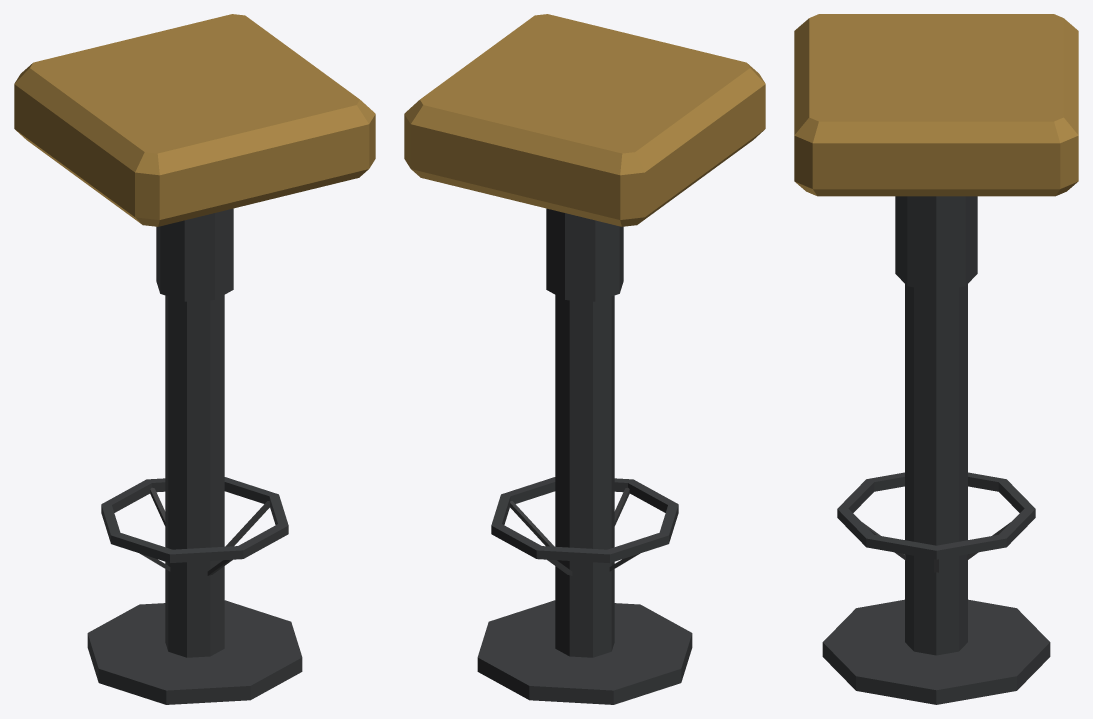
The model's file is SM_Props_Interior_Shop_Restaurant_Chair_Tall_01.fbx.
3 views of the same model, side by side, from view 1: azimuth 30°, elevation 25°; view 2: azimuth 150°, elevation 25°; view 3: azimuth 270°, elevation 25° (orthographic). The views are drawn at different scales.
Visible parts, largest first — view 1: SM_Props_Interior_Shop_Restaurant_Chair_Tall_01; view 2: SM_Props_Interior_Shop_Restaurant_Chair_Tall_01; view 3: SM_Props_Interior_Shop_Restaurant_Chair_Tall_01.
Part boxes in pixels (x1,y1,x2,y2): SM_Props_Interior_Shop_Restaurant_Chair_Tall_01: [14, 14, 375, 704]; SM_Props_Interior_Shop_Restaurant_Chair_Tall_01: [404, 14, 765, 704]; SM_Props_Interior_Shop_Restaurant_Chair_Tall_01: [794, 14, 1078, 704].
Size of the model in its own units: 35 by 80 by 35.
